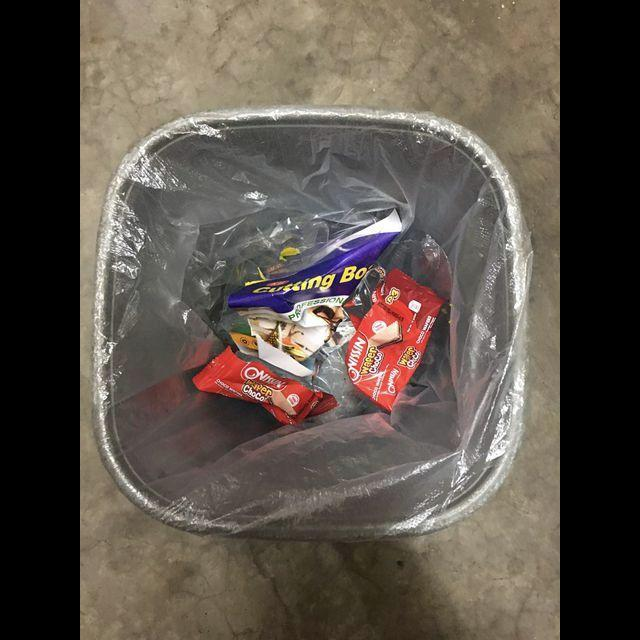food_wrapper: (342, 266, 445, 415), (192, 346, 339, 426)
paper: (228, 211, 401, 371)
